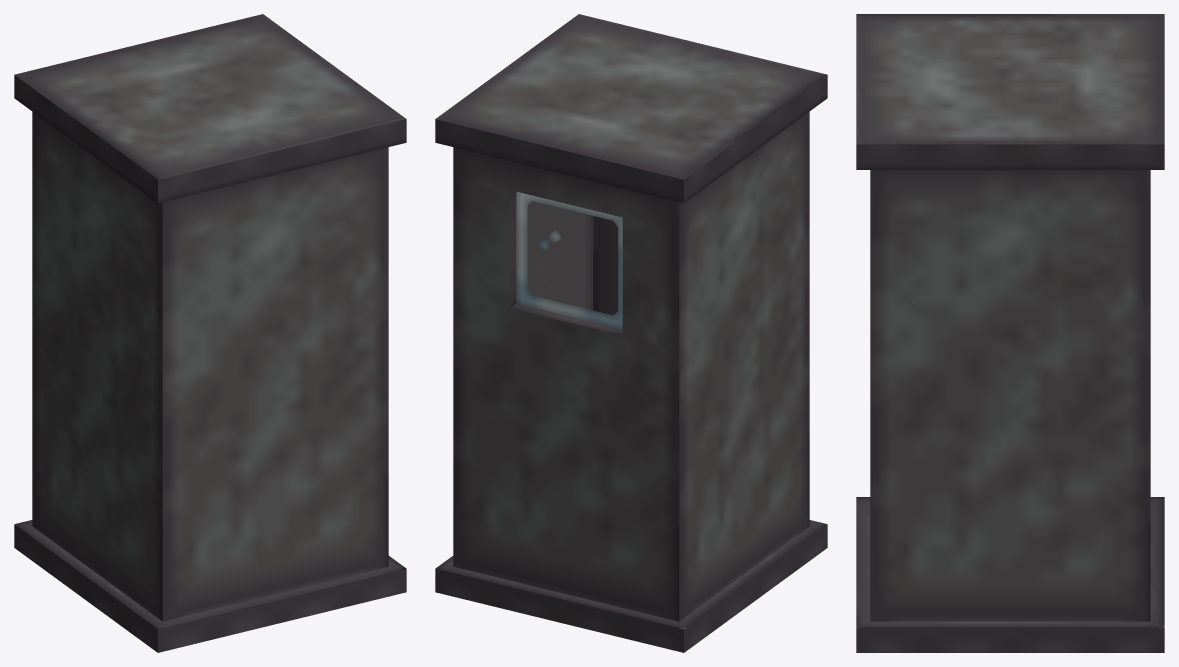
Rendered from rocket_body.obj.
3 renders of one model, left to right at view 1: azimuth 30°, elevation 25°; view 2: azimuth 150°, elevation 25°; view 3: azimuth 270°, elevation 25°, orthographic. The views are drawn at different scales.
Parts seen in each view (by area): view 1: RocketBody.001_Cube.025; view 2: RocketBody.001_Cube.025; view 3: RocketBody.001_Cube.025.
Part boxes in pixels (x1,y1,x2,y2): RocketBody.001_Cube.025: [14, 14, 406, 652]; RocketBody.001_Cube.025: [435, 14, 827, 652]; RocketBody.001_Cube.025: [856, 14, 1164, 652].
Bounding box in the file's own units: 1.38 × 2.5 × 1.38.
